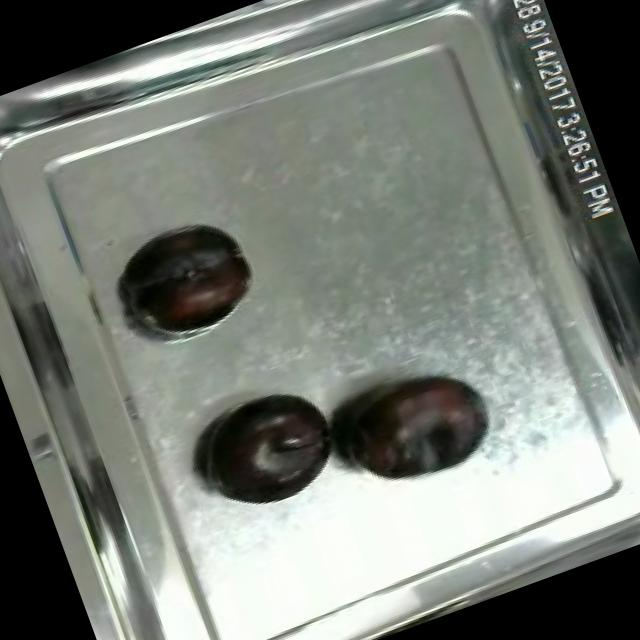Fruit: (321, 346, 508, 508), (185, 373, 352, 522), (114, 204, 267, 348)
